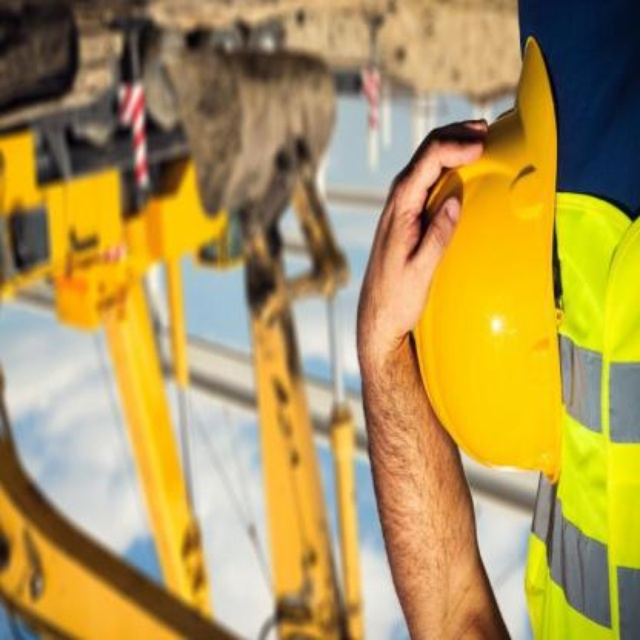yellow-helm: (393, 36, 586, 502)
